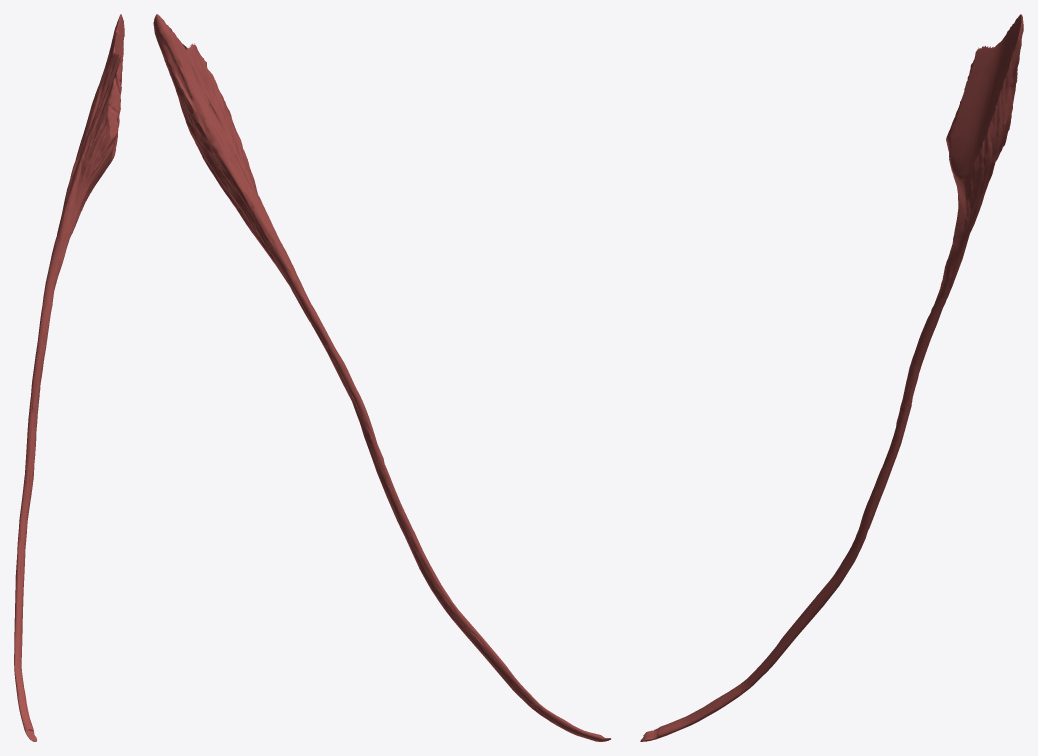
Rendered from FMA38525.glb.
The picture shows the model from 3 angles, left to right: view 1: azimuth 30°, elevation 25°; view 2: azimuth 150°, elevation 25°; view 3: azimuth 270°, elevation 25°; orthographic projection. The views are drawn at different scales.
Parts seen in each view (by area): view 1: FMA38525; view 2: FMA38525; view 3: FMA38525.
Boxes of the visible parts, box(x1,y1,x2,y2) form: FMA38525: box(14, 14, 124, 741); FMA38525: box(153, 14, 610, 741); FMA38525: box(640, 14, 1023, 741).
Bounding box in the file's own units: 0.0782 × 0.1996 × 0.0786.
